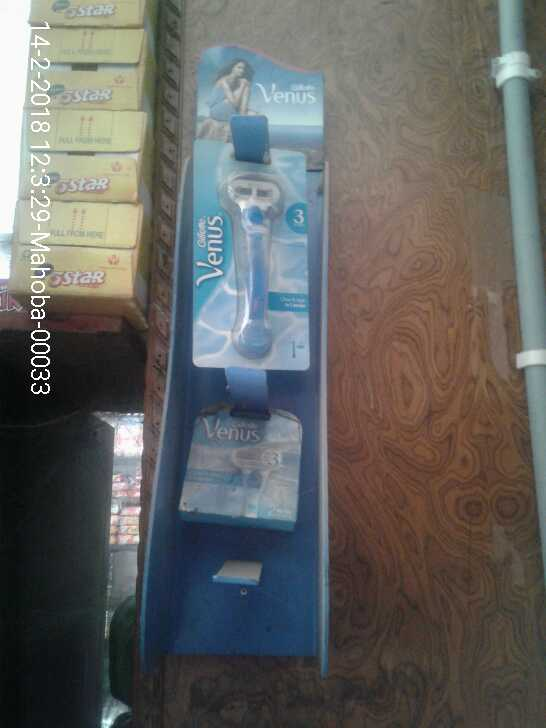venus: (188, 134, 315, 372), (167, 398, 304, 529)
